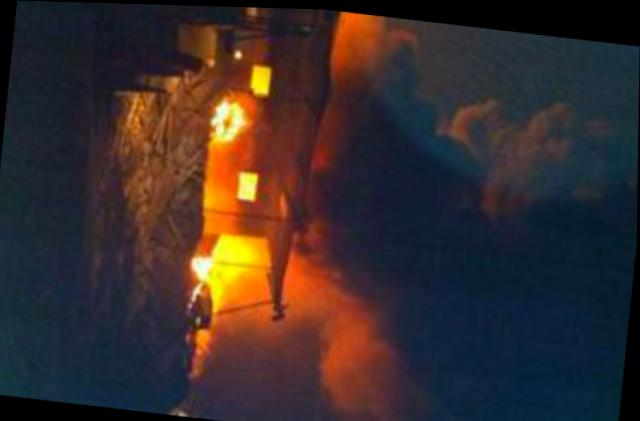fire: (193, 231, 252, 292), (212, 88, 257, 142), (236, 167, 263, 199), (252, 60, 274, 93)
